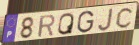8: (19, 16, 35, 40)
C: (115, 7, 135, 30)
G: (76, 10, 95, 34)
J: (97, 7, 114, 32)
Q: (57, 12, 75, 36)
R: (37, 14, 56, 39)
